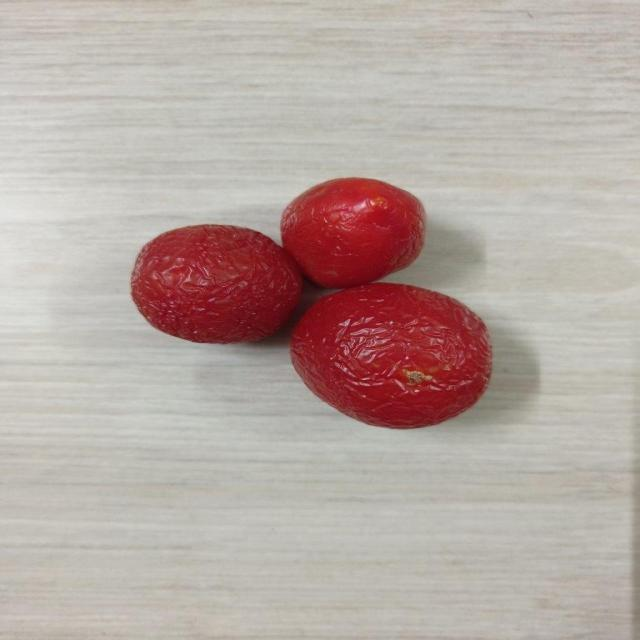overripe: (289, 286, 497, 432), (127, 223, 306, 346), (281, 177, 434, 281)
